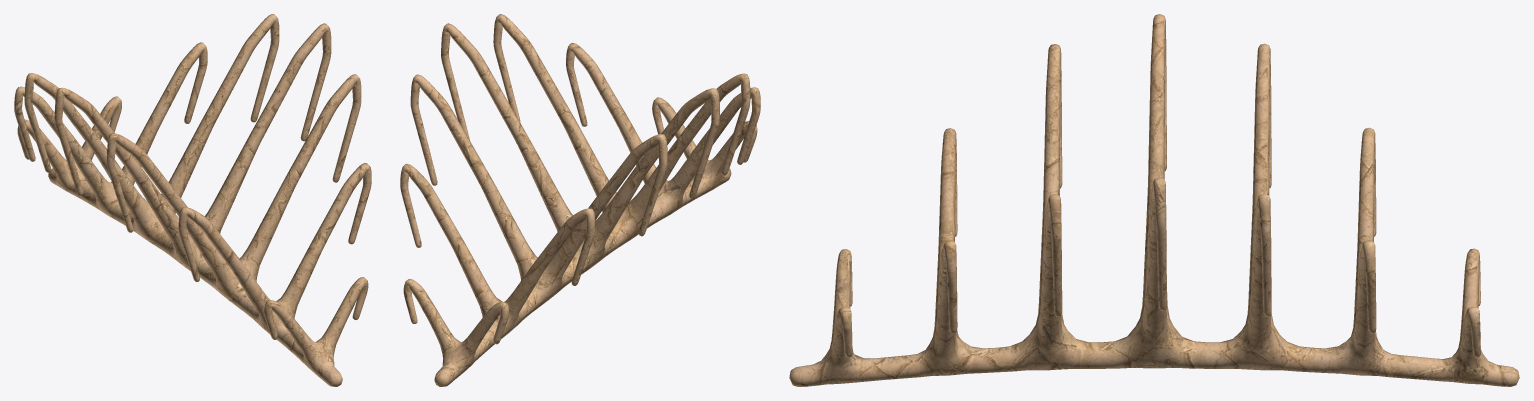
File: ribs.glb
The picture shows the model from 3 angles, left to right: view 1: azimuth 30°, elevation 25°; view 2: azimuth 150°, elevation 25°; view 3: azimuth 270°, elevation 25°; orthographic projection. The views are drawn at different scales.
Visible parts, largest first — view 1: ribs; view 2: ribs; view 3: ribs.
Boxes of the visible parts, x1,y1,x2,y2 form: ribs: [14, 14, 371, 386]; ribs: [400, 14, 760, 386]; ribs: [789, 14, 1519, 386].
Bounding box in the file's own units: 14.35 × 11.29 × 25.8.
Materials: 1 (1 with a texture image).
